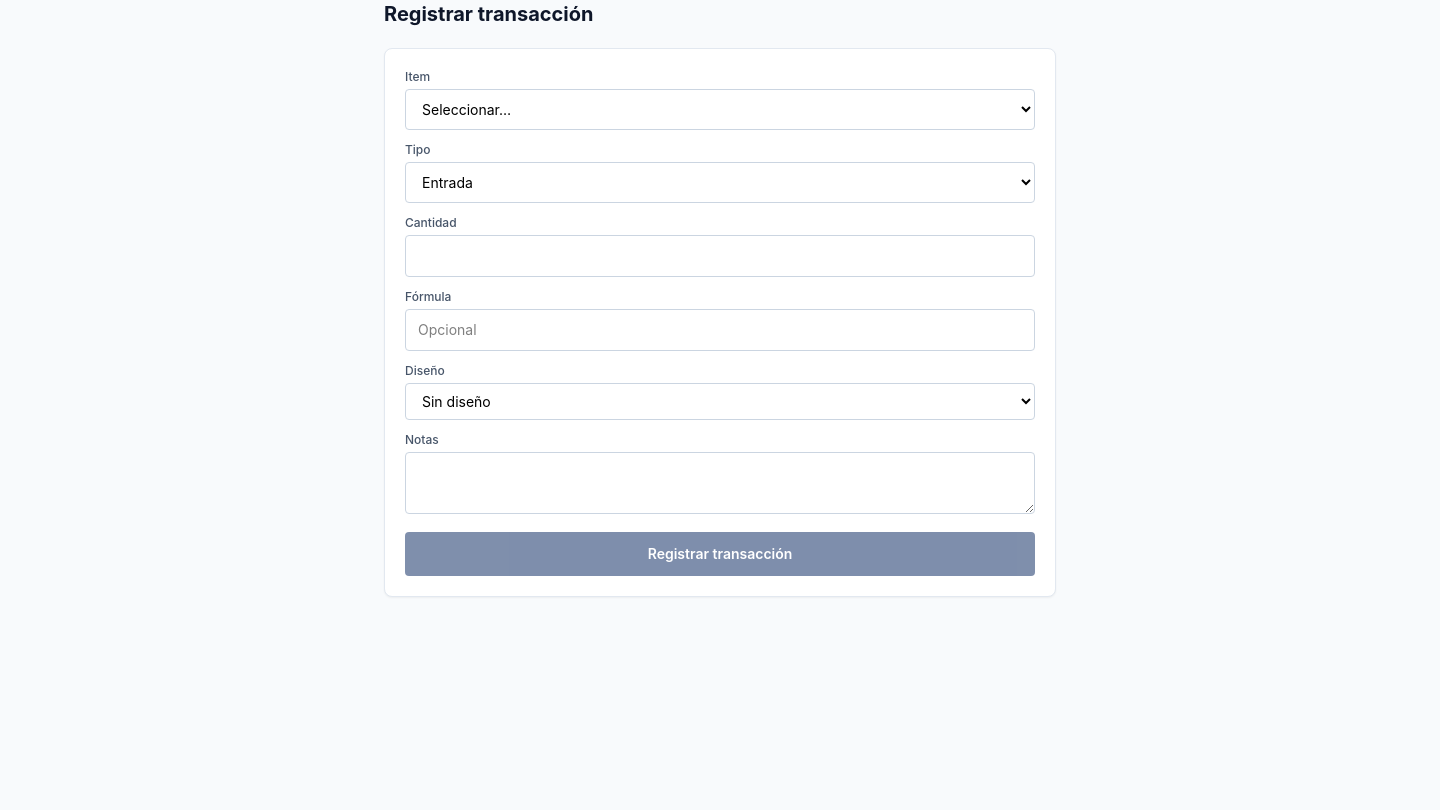
Scenario: InventoryTransactionPage (mobile txn form) › shows the backend negative-stock message verbatim (consumo sin nota)
Select "Colorante Amarillo 109" in the dropdown labelled "Item". click: [720, 110]
box: left=405, top=89, right=1035, bottom=130
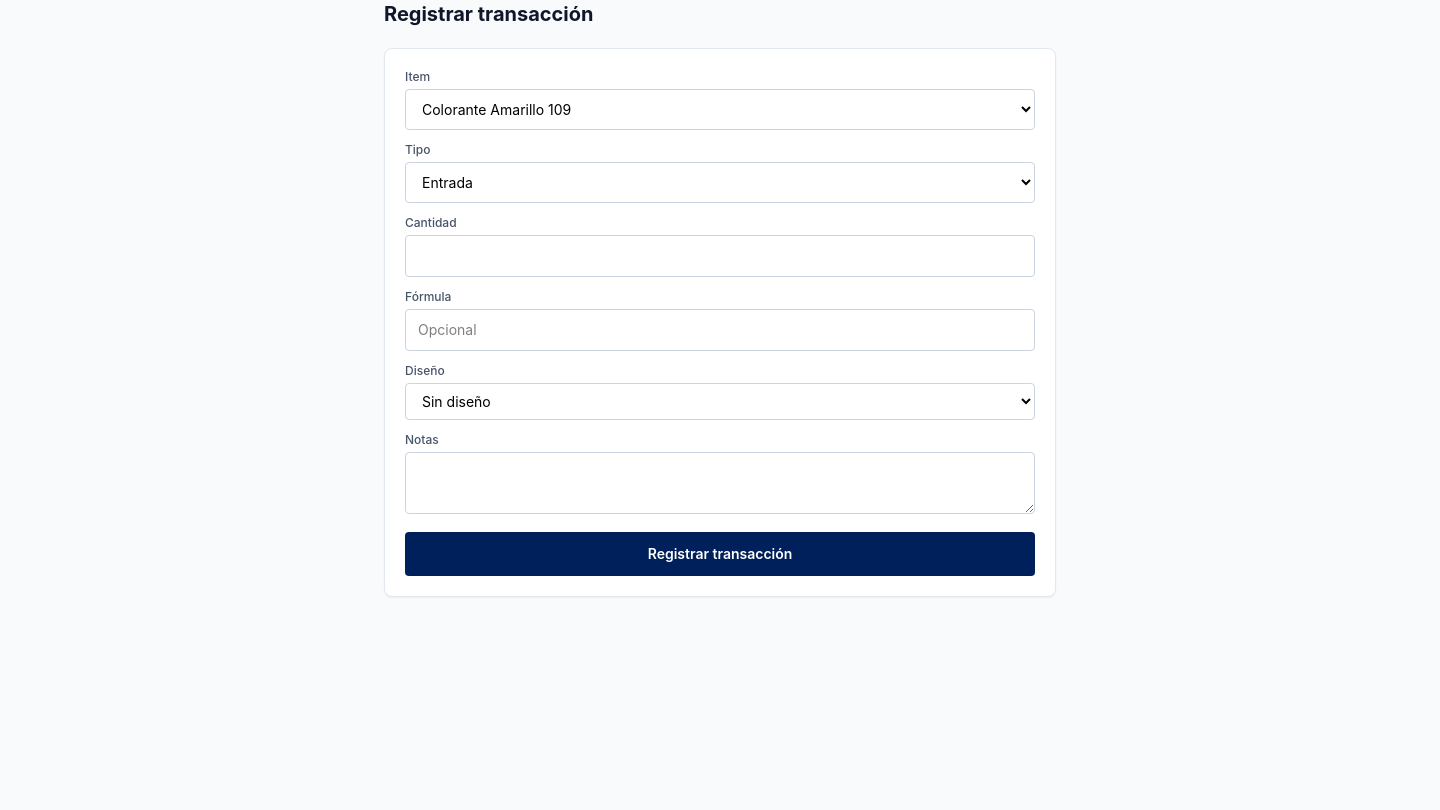
Select "Consumo" in the dropdown labelled "Tipo". click: [720, 182]
box: left=405, top=162, right=1035, bottom=203
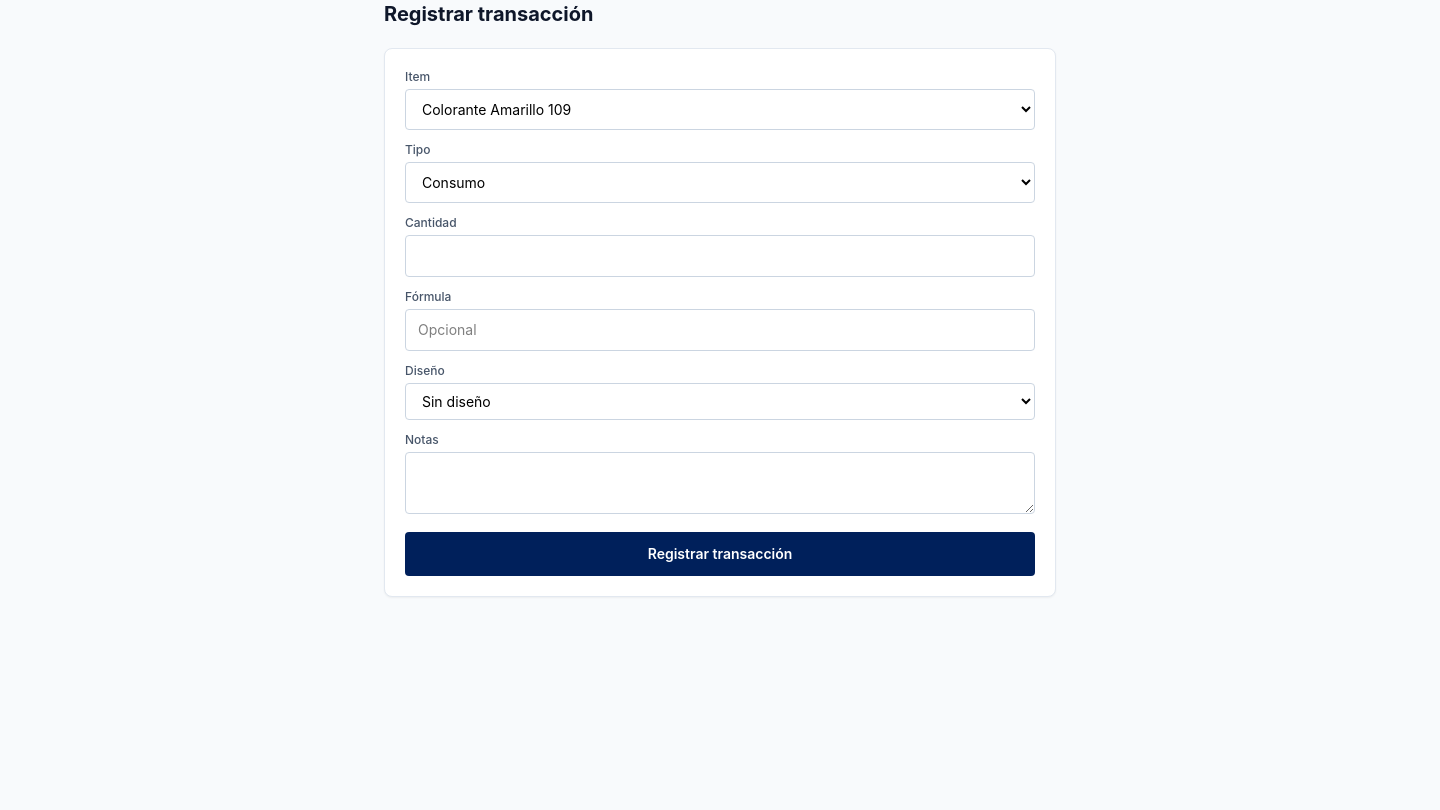
Type "50" into the number field labelled "Cantidad". click: [720, 256]
box: left=405, top=235, right=1035, bottom=277
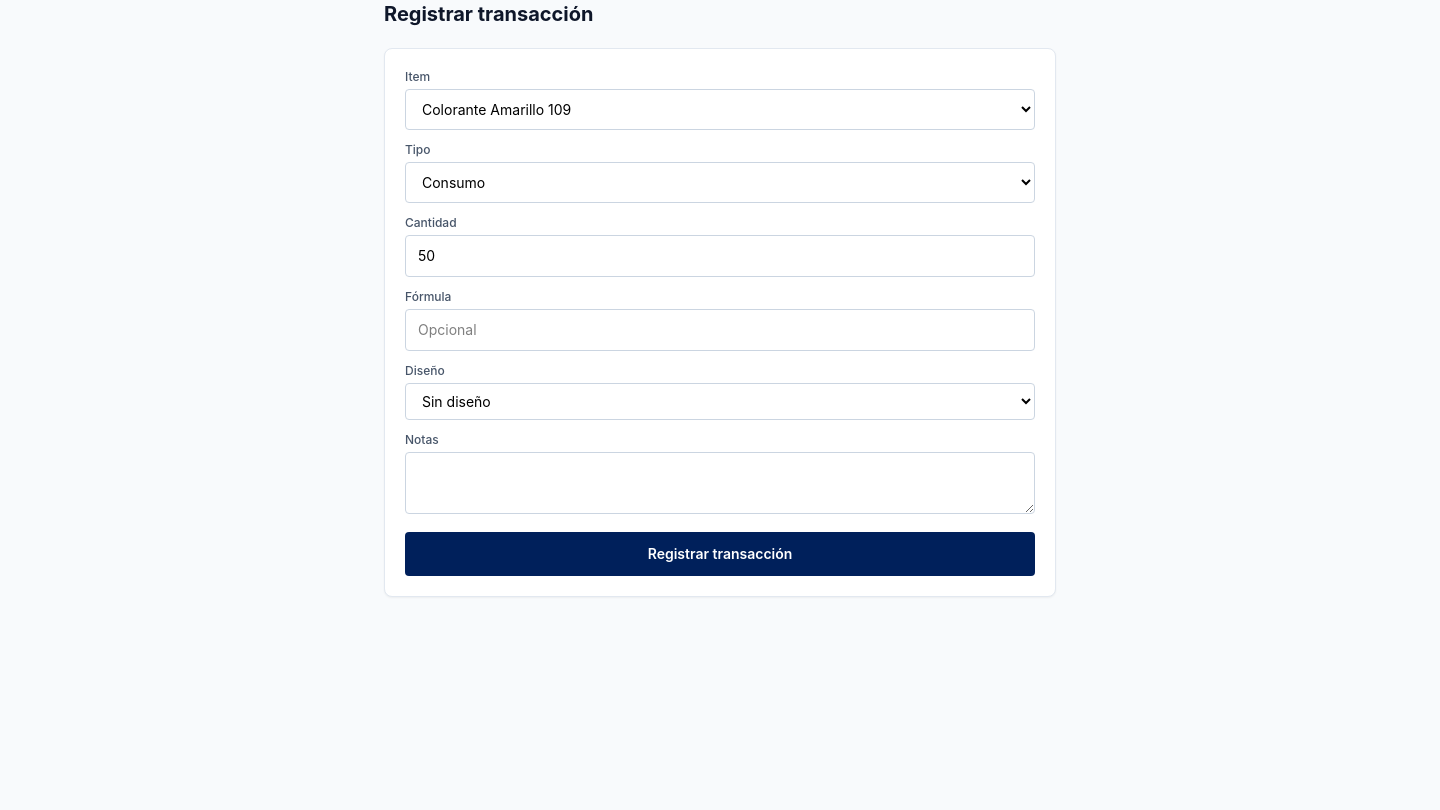
Click the button "Registrar transacción". click: [720, 554]
box: left=405, top=532, right=1035, bottom=576
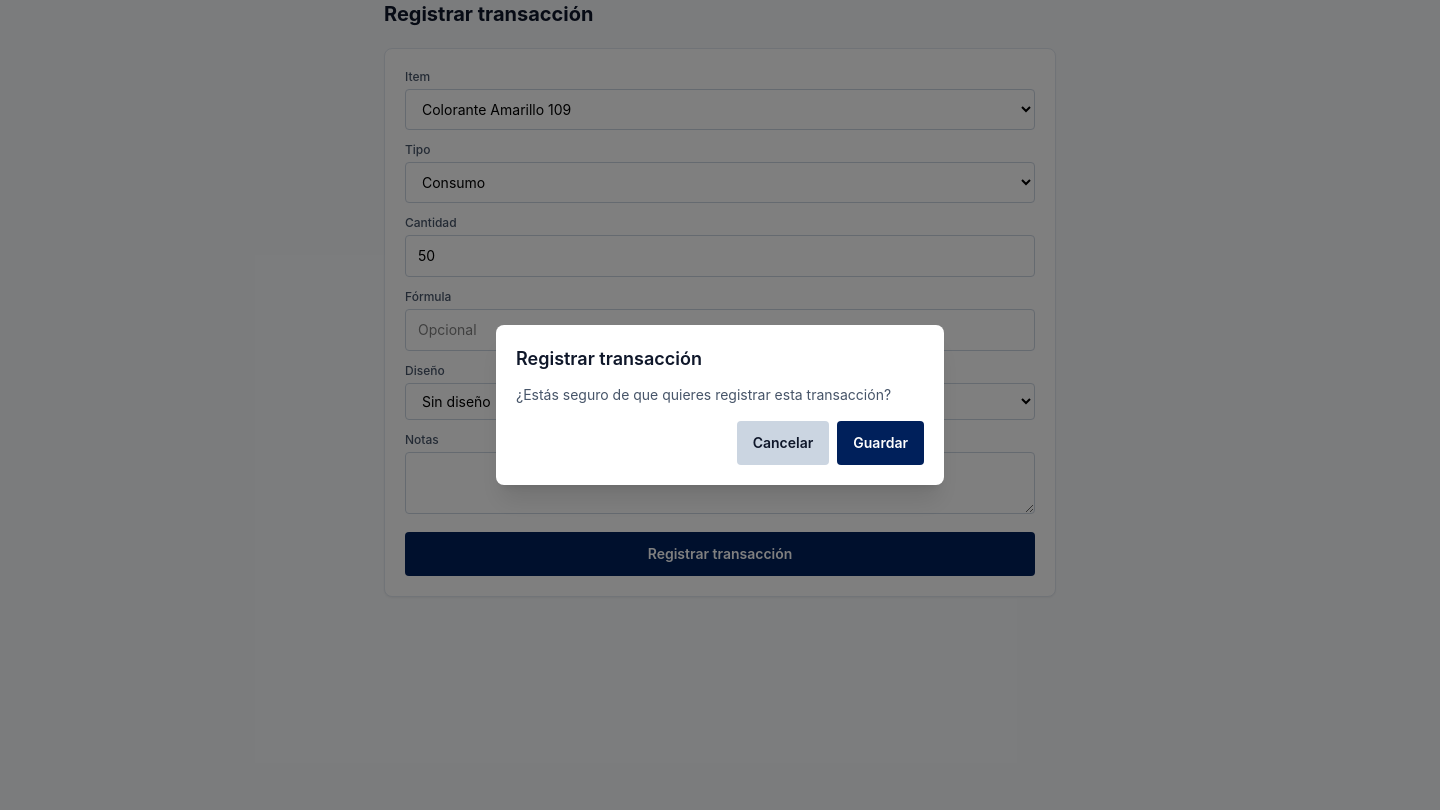
Click the button "Guardar". click: [881, 443]
box: left=837, top=421, right=924, bottom=465
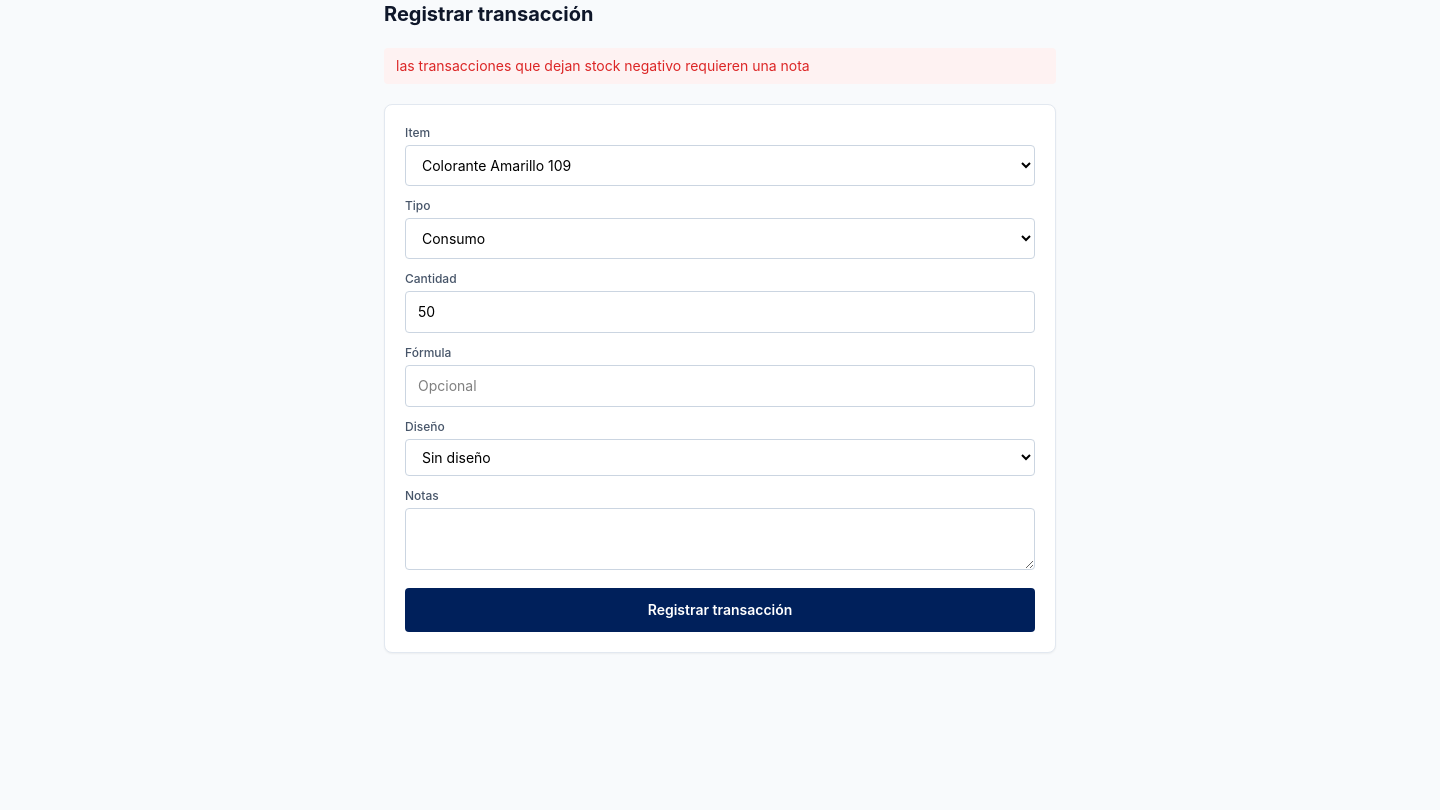
Now the text "las transacciones que dejan stock negativo requieren una nota" is shown, box left=384, top=48, right=1056, bottom=84
